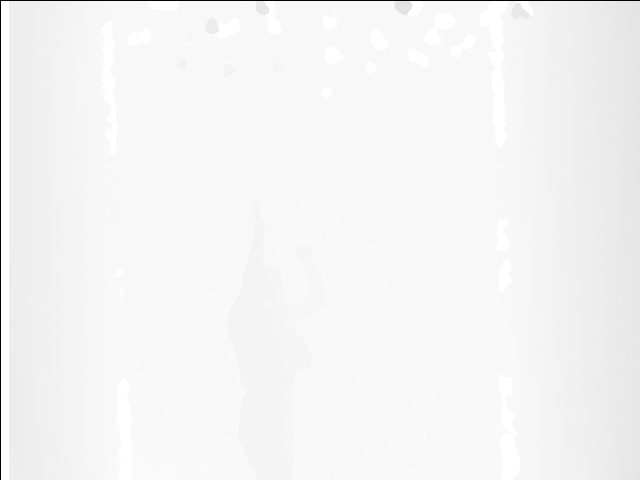hand: (248, 198, 271, 231), (293, 241, 316, 266)
